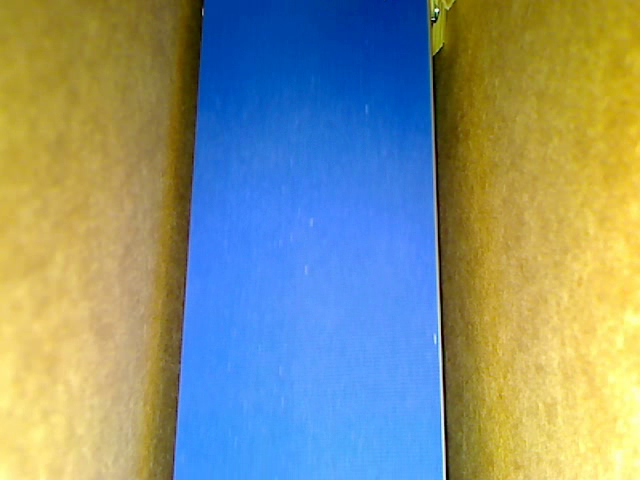penne: (429, 1, 445, 55), (442, 1, 456, 12)
